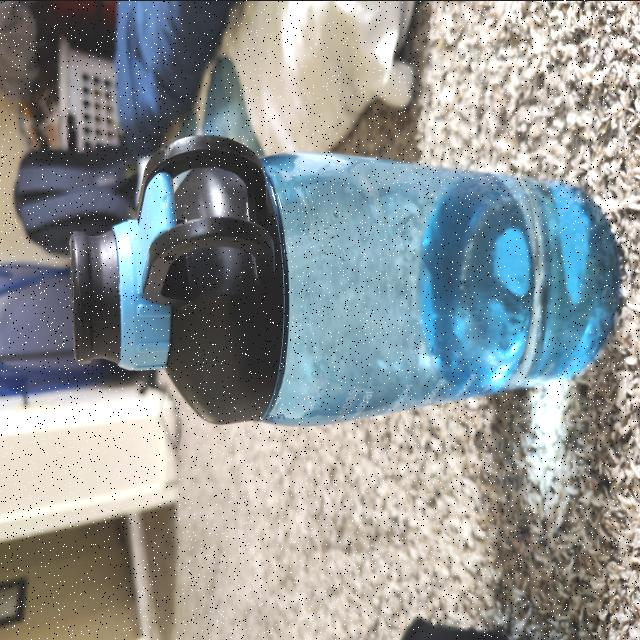bottle: (70, 140, 602, 422)
